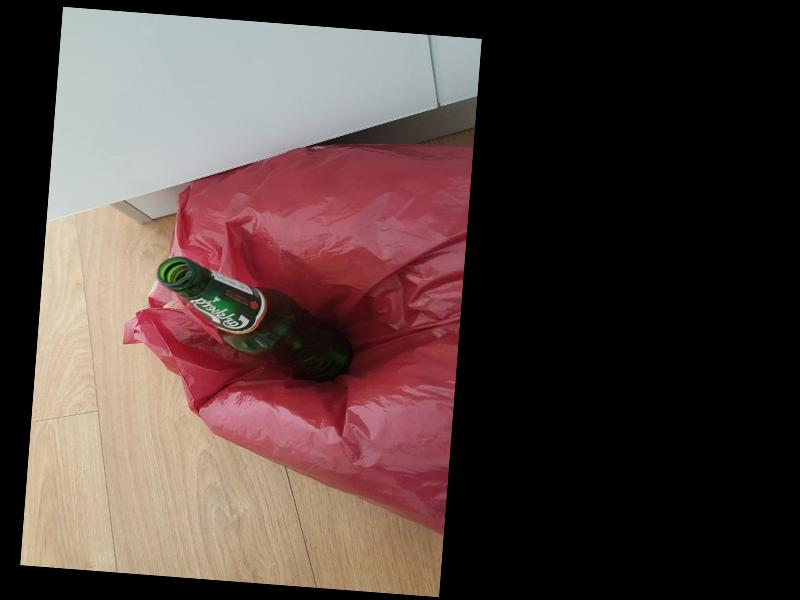Beer: (148, 256, 355, 385)
